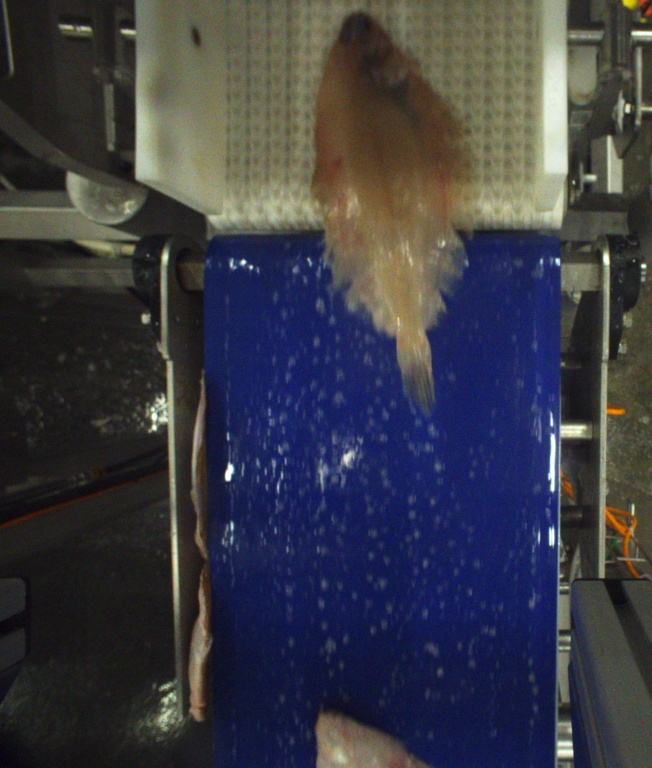WIT: (313, 8, 465, 420)
